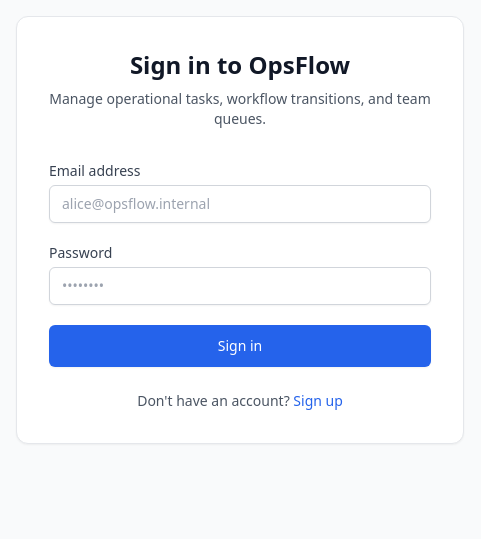
Test: Authentication & Protected Routes › LoginPage › should display error message on invalid credentials
Type "wrong@example.com" into the field labelled "Email address" at (240, 204), box [49, 185, 431, 223]
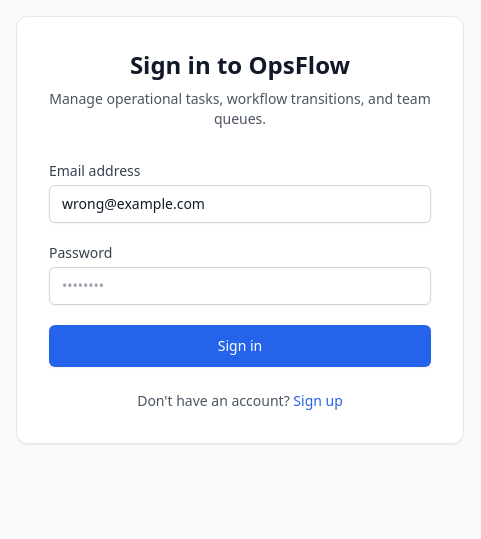
Type "wrongpassword" into the password field labelled "Password" at (240, 286), box [49, 267, 431, 305]
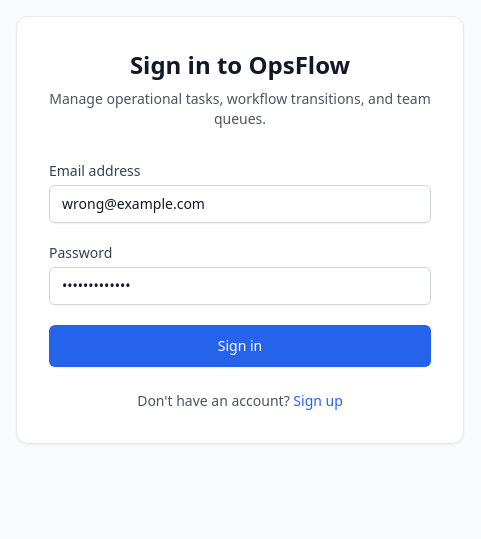
Click the button "Sign in" at (240, 346), box [49, 325, 431, 367]
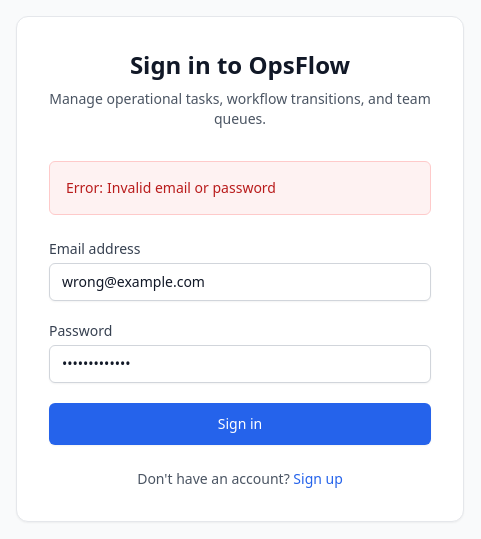
Now the message shows "Invalid email or password", box [107, 178, 276, 197]
